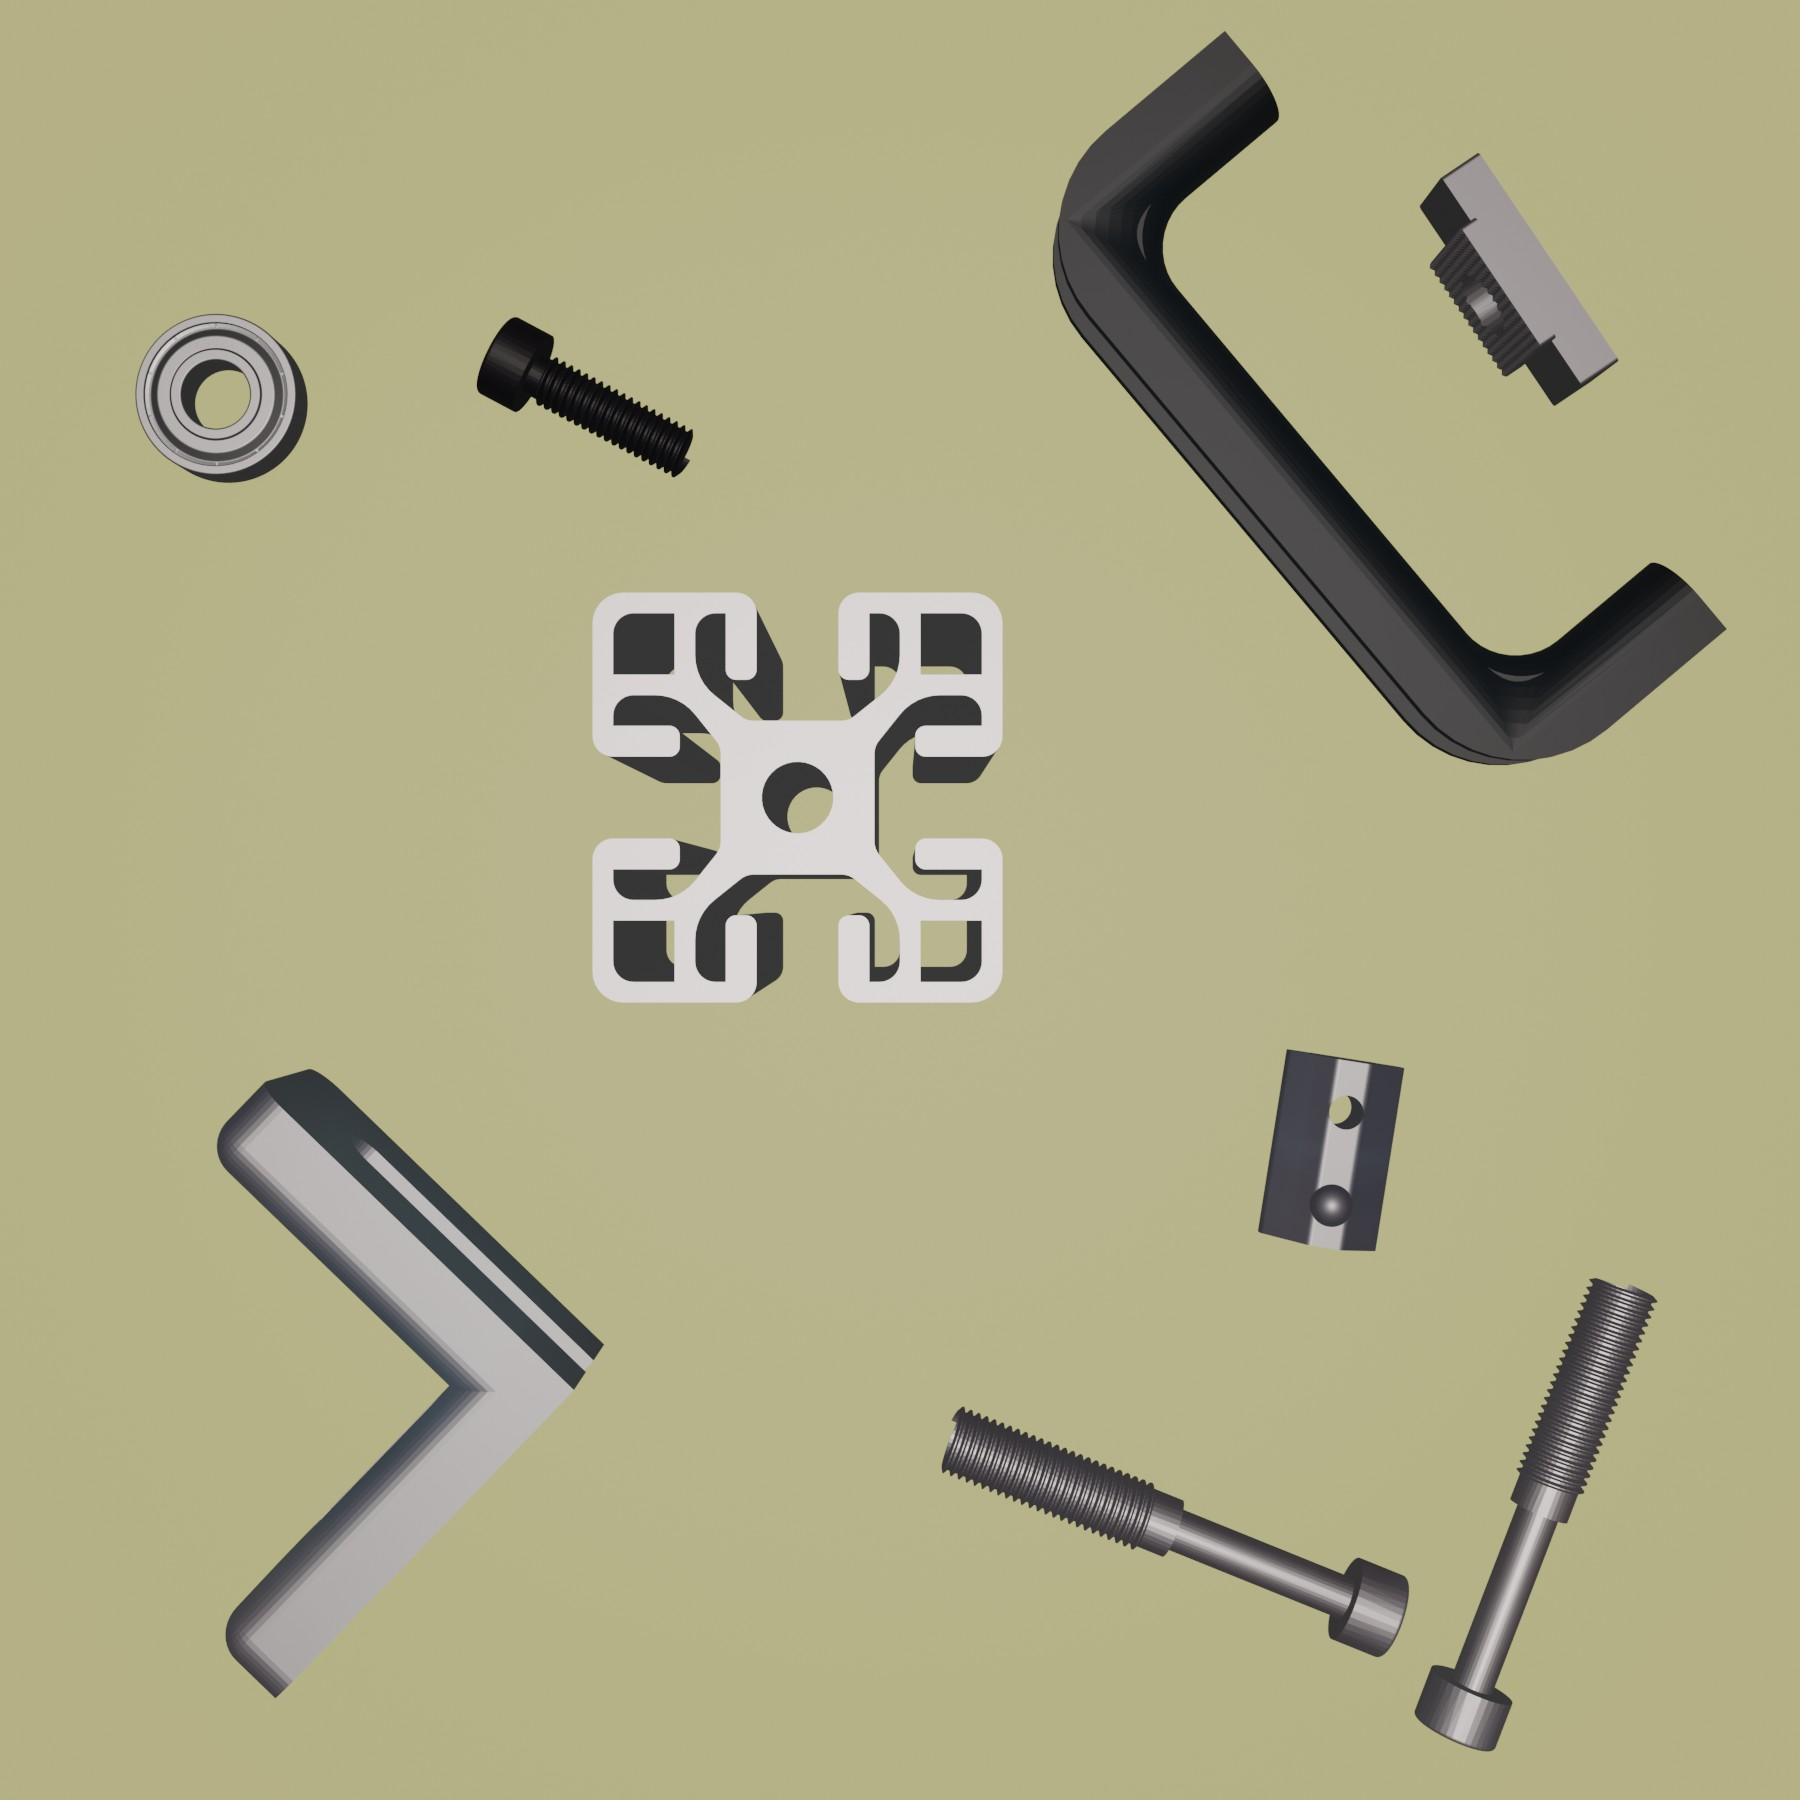Aluminium Extension: (588, 585, 1005, 1009)
Ball Bearing: (132, 308, 308, 485)
Multiwinkel: (214, 1063, 607, 1699)
Pull Handle: (1052, 23, 1727, 768)
Shoulder Socket Head Cap Screw: (936, 1403, 1411, 1658), (1413, 1273, 1658, 1754)
Socket Head Cap Screw: (475, 313, 696, 480)
T Nut Square: (1416, 150, 1620, 409)
T Spring Nut: (1254, 1045, 1404, 1254)
